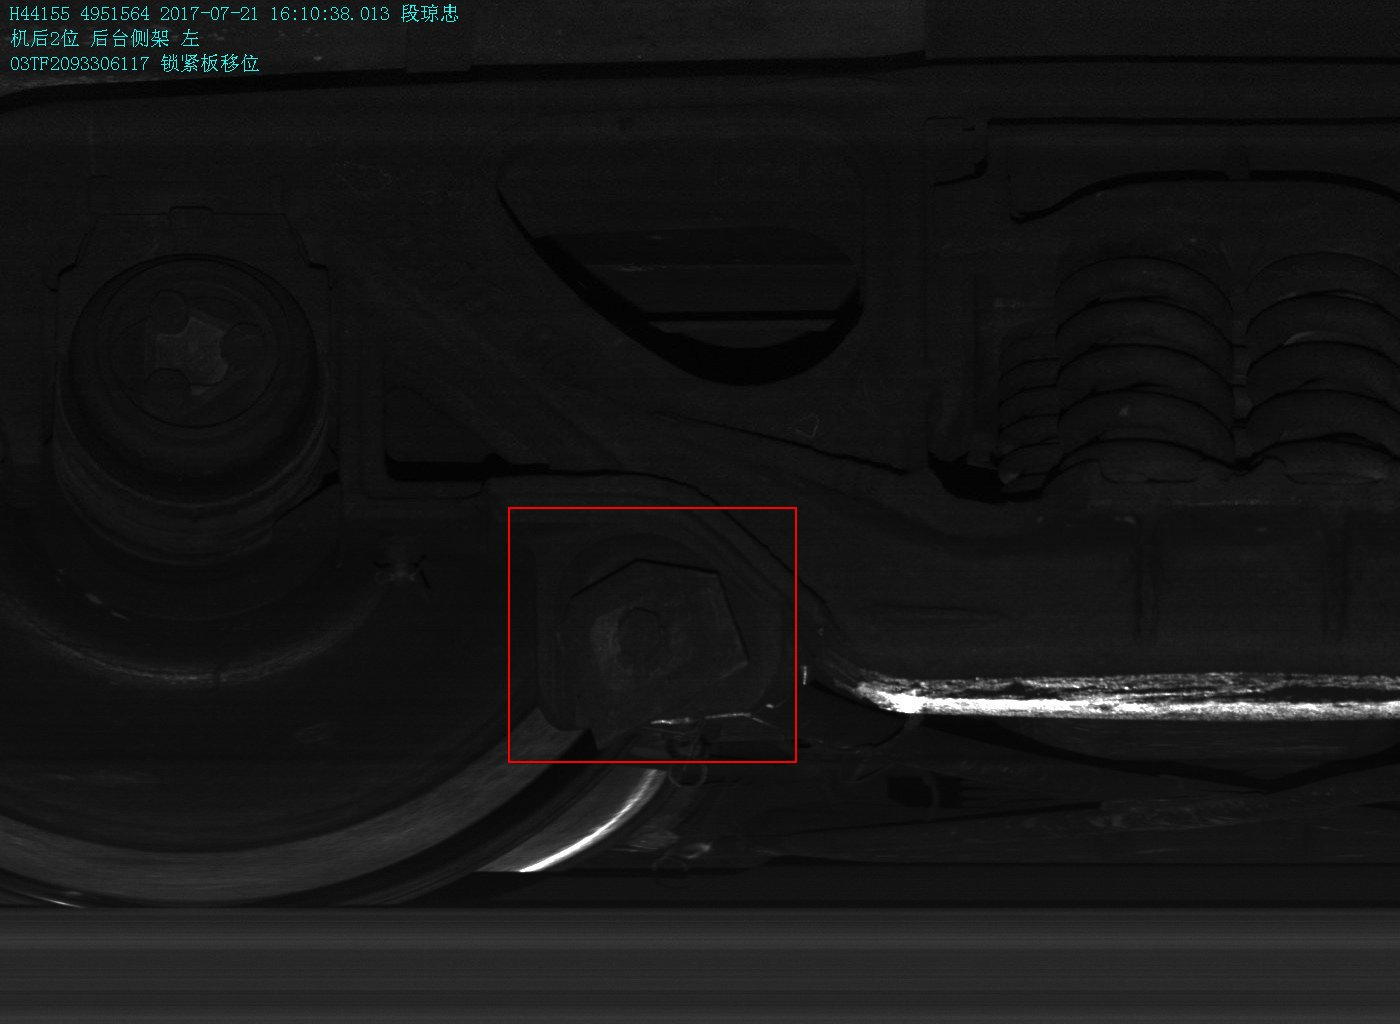Locking plate: (530, 519, 776, 753)
